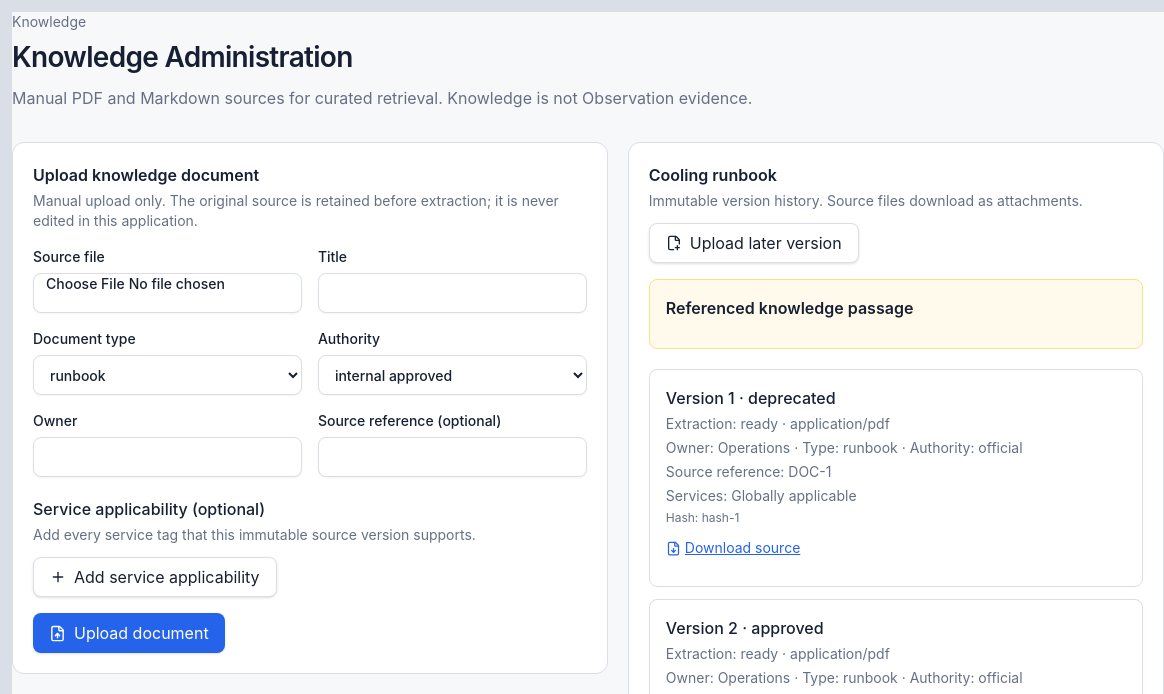
Test: KnowledgePage › shows immutable historical metadata and permits a later version upload without replacing it
Expected: the heading "Version 1 · deprecated" is shown, [666,388,836,408]
Expected: the text "Owner: Operations · Type: runbook · Authority: official" below "deprecated" is shown, [666,438,1023,458]
Step 1. Click the button "Upload later version" → click(754, 243), box [649,223,859,263]
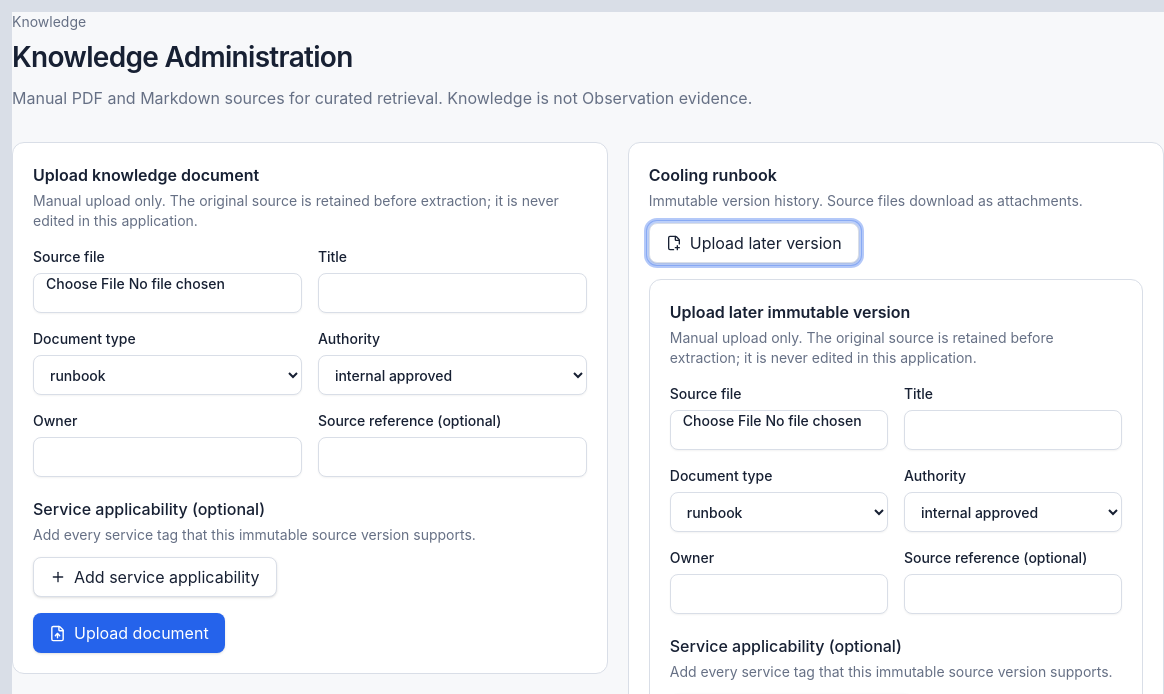
Result: the heading "Upload later immutable version" is shown at [670,302,910,322]
